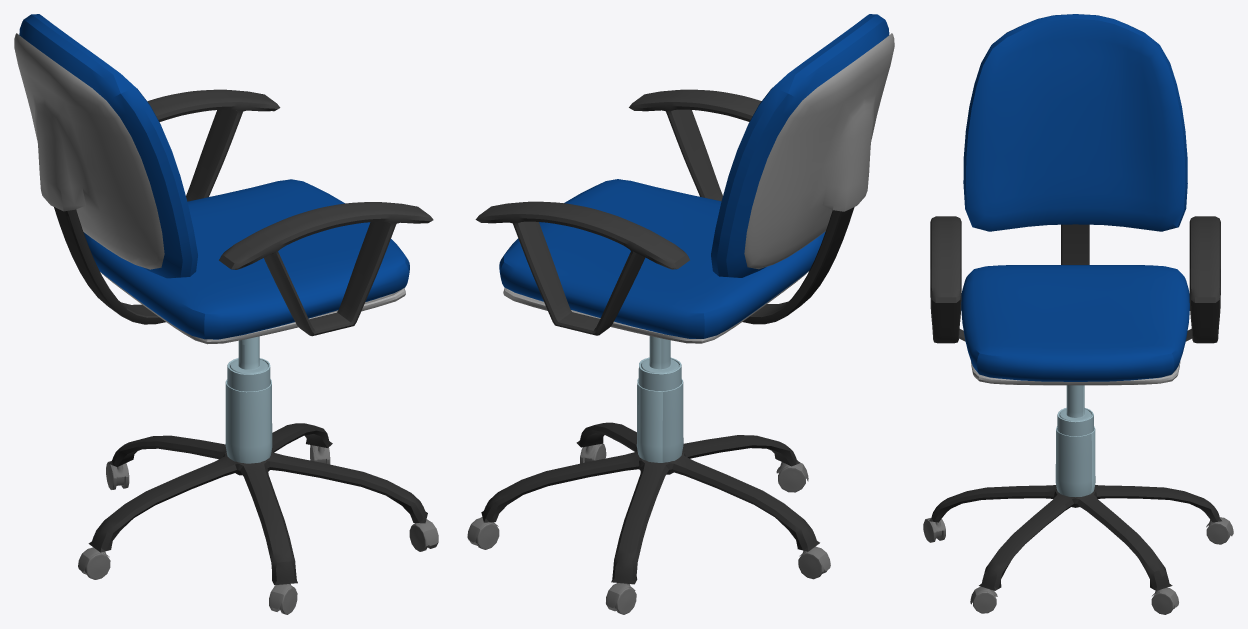
File: OfficeChair.fbx
The picture shows the model from 3 angles, left to right: view 1: azimuth 30°, elevation 25°; view 2: azimuth 150°, elevation 25°; view 3: azimuth 270°, elevation 25°; orthographic projection. The views are drawn at different scales.
Visible parts, largest first — view 1: Ofiicechair; view 2: Ofiicechair; view 3: Ofiicechair.
Part boxes in pixels (x1,y1,x2,y2): Ofiicechair: (14, 14, 438, 614); Ofiicechair: (467, 14, 894, 614); Ofiicechair: (923, 14, 1233, 614).
Size of the model in its own units: 237 by 361 by 217.
1 material, 1 textured.
